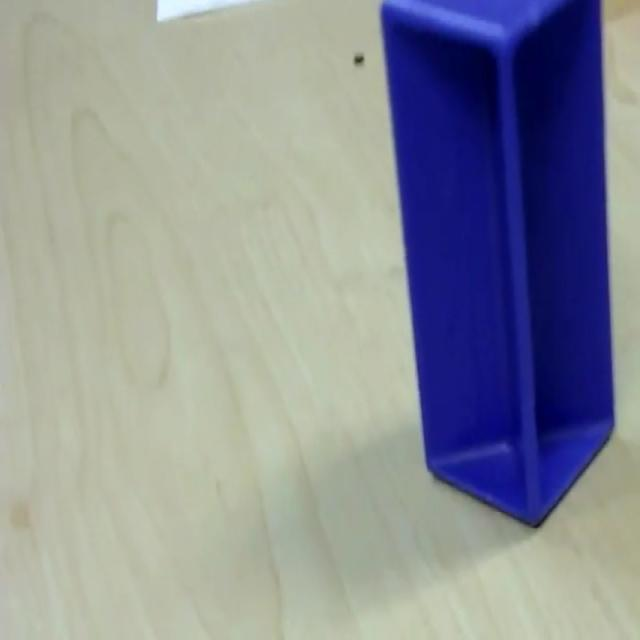blue_block: (377, 0, 616, 528)
